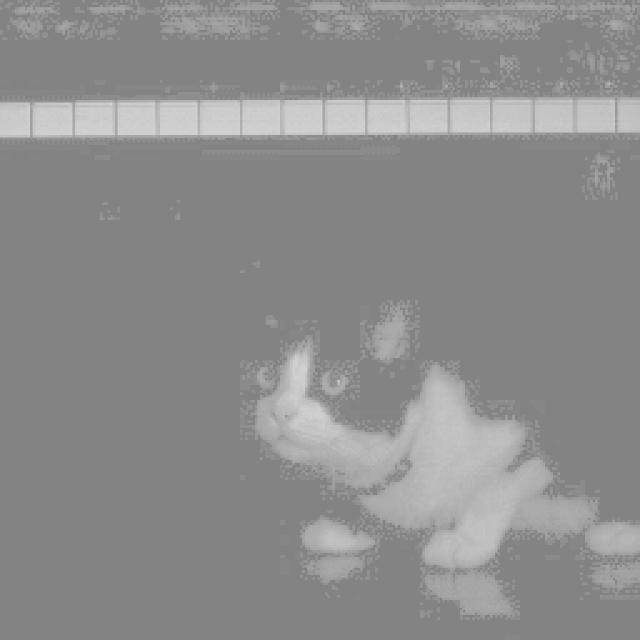cat: (225, 285, 640, 563)
